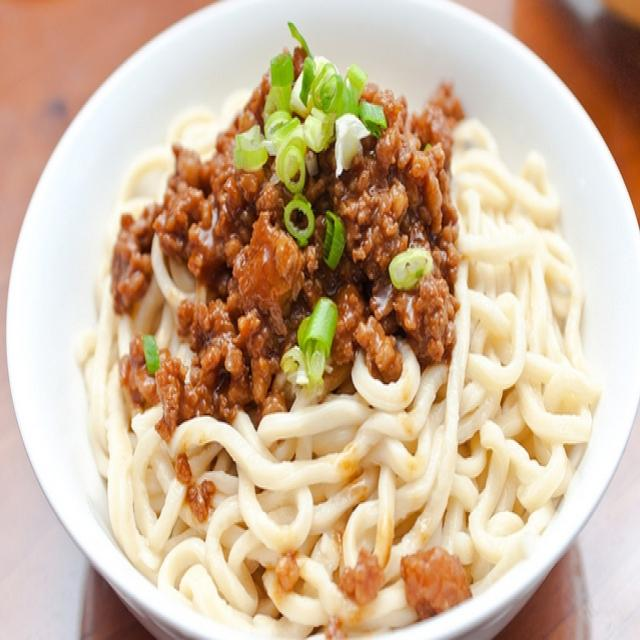面条主食: (35, 31, 614, 629)
